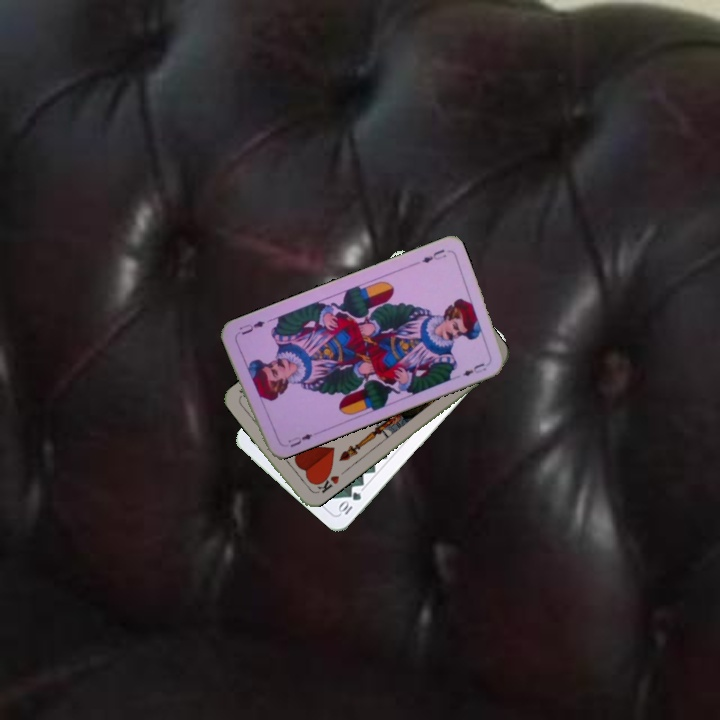EU: (417, 245, 449, 266), (284, 429, 315, 450)
G10: (334, 488, 364, 517)
HK: (311, 467, 342, 496)
